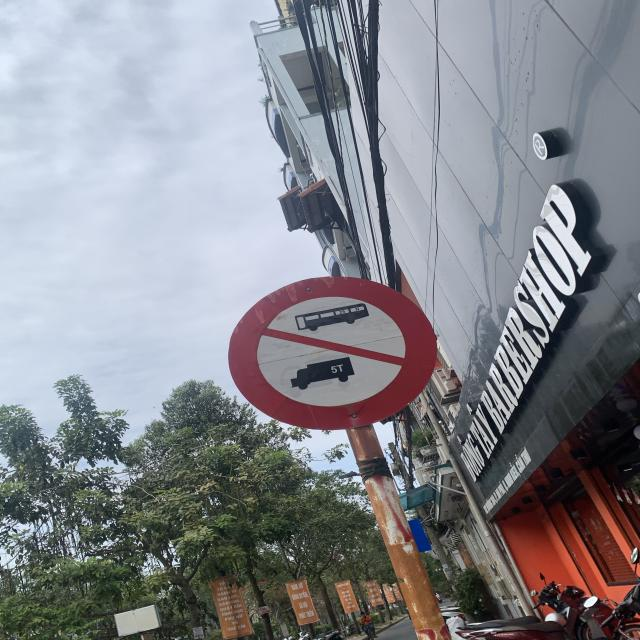Cam_XeTai_XeKhach: (225, 276, 437, 432)
